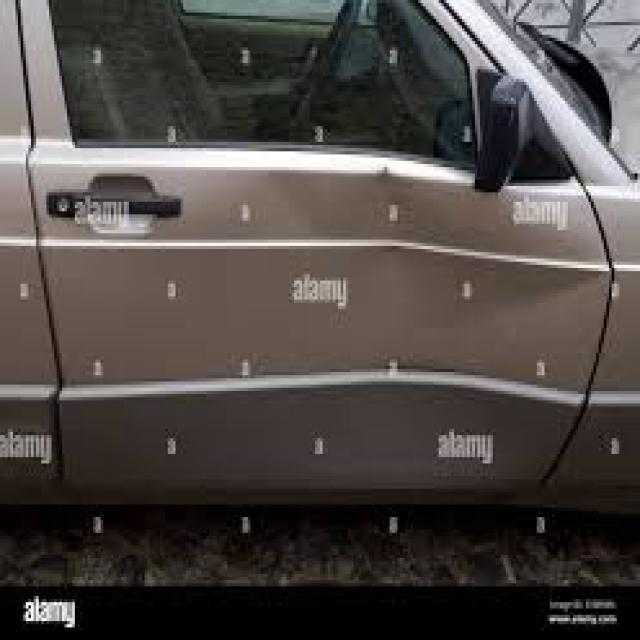damaged-door: (16, 0, 603, 516)
